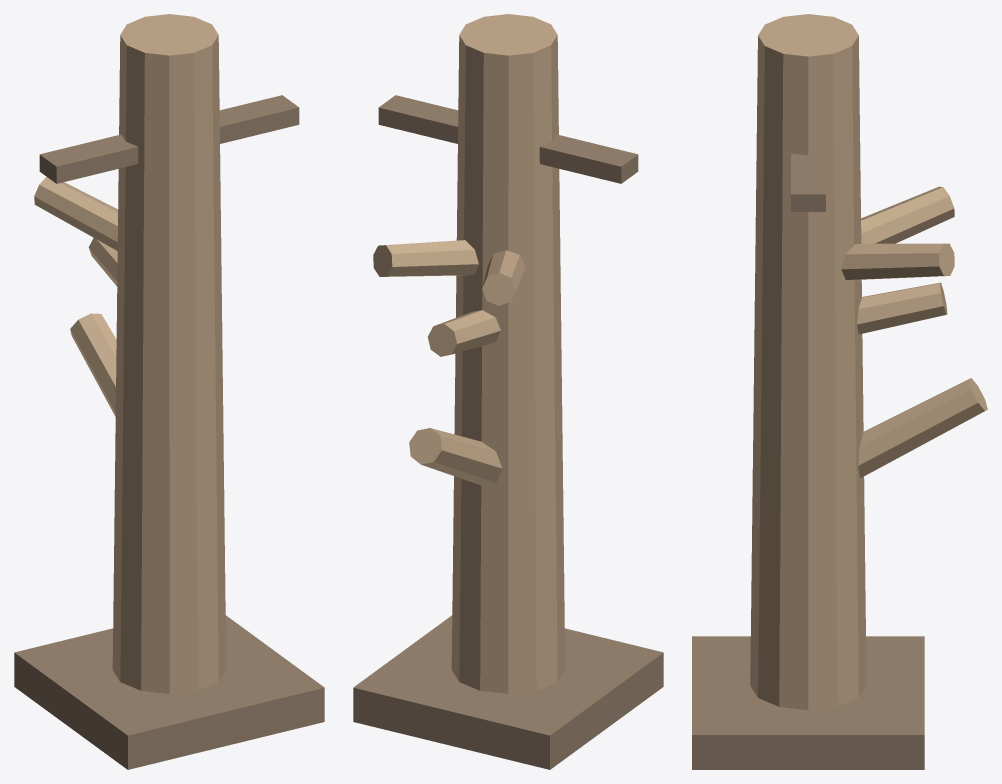
The model's file is martial-arts-dojo-and-fight-stages-wooden-dummy-041f850b__18041.glb.
The picture shows the model from 3 angles, left to right: view 1: azimuth 30°, elevation 25°; view 2: azimuth 150°, elevation 25°; view 3: azimuth 270°, elevation 25°; orthographic projection. The views are drawn at different scales.
Visible parts, largest first — view 1: wooden-dummy; view 2: wooden-dummy; view 3: wooden-dummy.
Boxes of the visible parts, box(x1,y1,x2,y2) form: wooden-dummy: box(14, 14, 324, 769); wooden-dummy: box(353, 14, 663, 769); wooden-dummy: box(692, 14, 987, 769).
Bounding box in the file's own units: 0.7401 × 1.95 × 0.7627.
